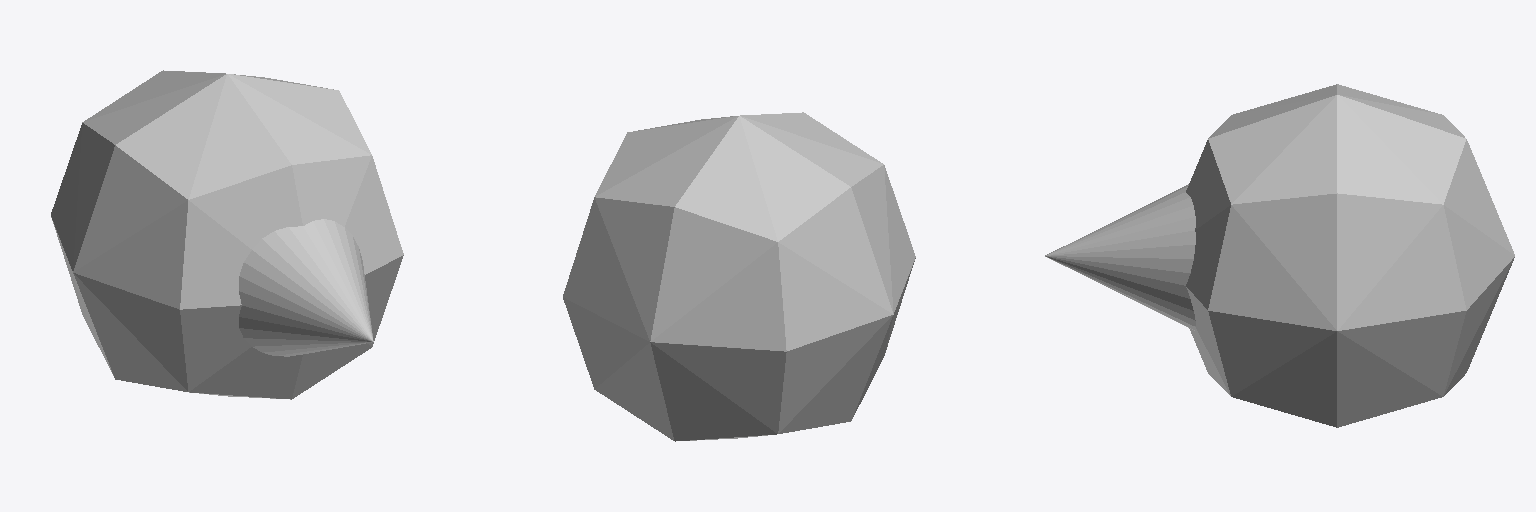
Rendered from player.obj.
3 renders of one model, left to right at view 1: azimuth 30°, elevation 25°; view 2: azimuth 150°, elevation 25°; view 3: azimuth 270°, elevation 25°, orthographic.
Parts seen in each view (by area): view 1: Cube, 円錐; view 2: Cube; view 3: Cube, 円錐.
Part boxes in pixels (left/top/right/bottom): Cube: left=51, top=70, right=403, bottom=399; 円錐: left=239, top=219, right=373, bottom=356; Cube: left=563, top=112, right=915, bottom=441; Cube: left=1186, top=84, right=1514, bottom=427; 円錐: left=1045, top=184, right=1195, bottom=330.
Bounding box in the file's own units: 1.68 × 1.68 × 2.22.